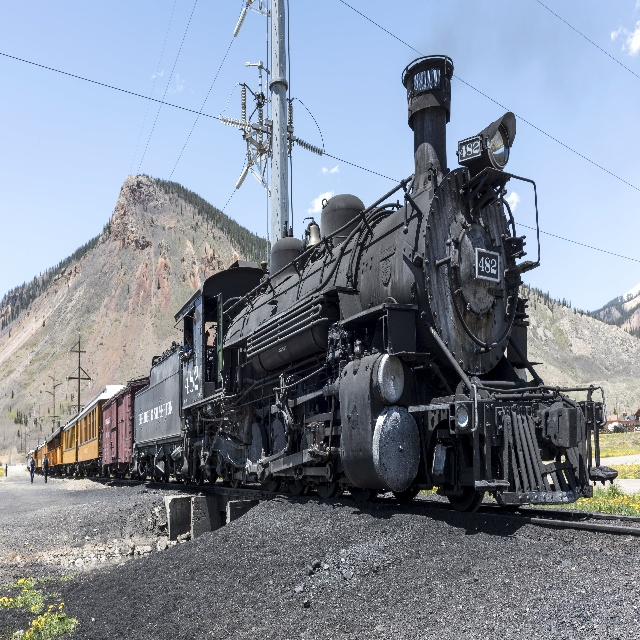Sin_guantes: (184, 351, 189, 359)
